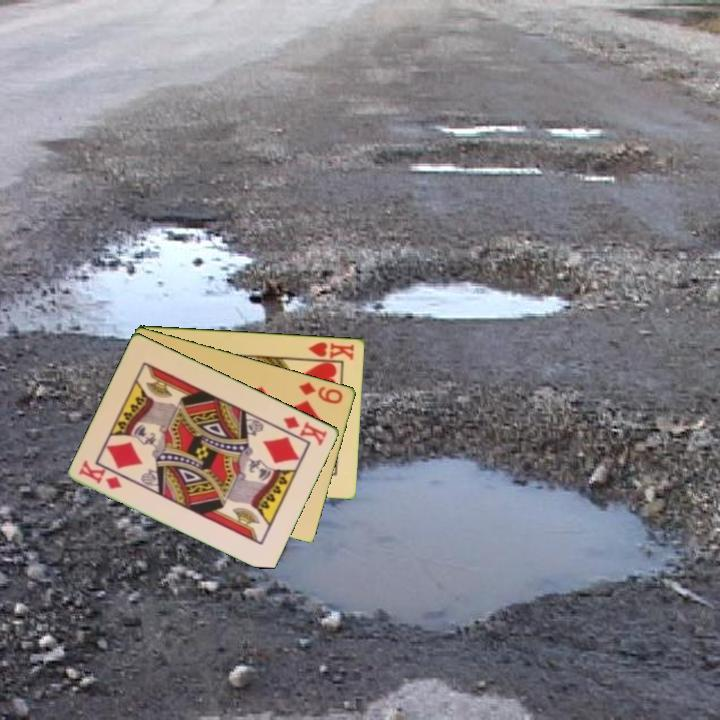9d: (295, 378, 346, 407)
Kd: (280, 412, 330, 448), (75, 457, 125, 492)
Kh: (302, 338, 357, 363)
